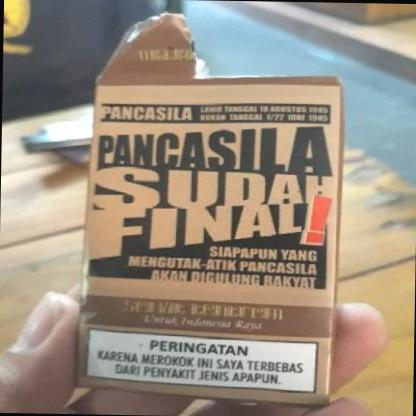objects: (76, 81, 344, 405)
